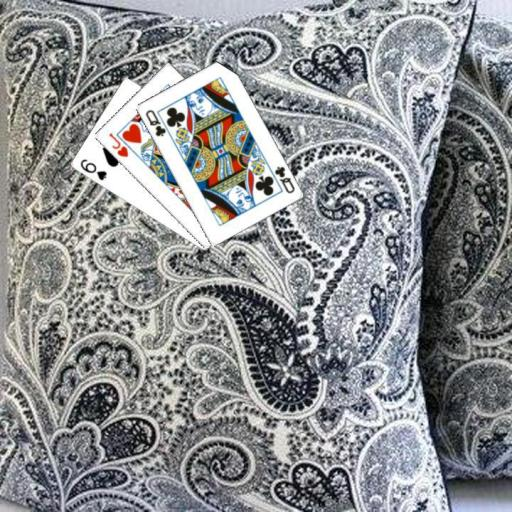6S: (77, 156, 108, 182)
JH: (106, 130, 130, 159)
QC: (142, 106, 167, 138), (271, 163, 296, 195)
